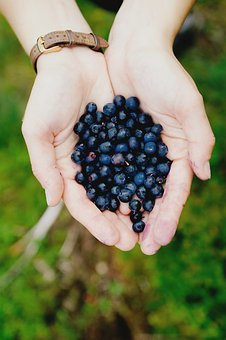palm: (46, 82, 119, 162), (121, 74, 185, 159)
